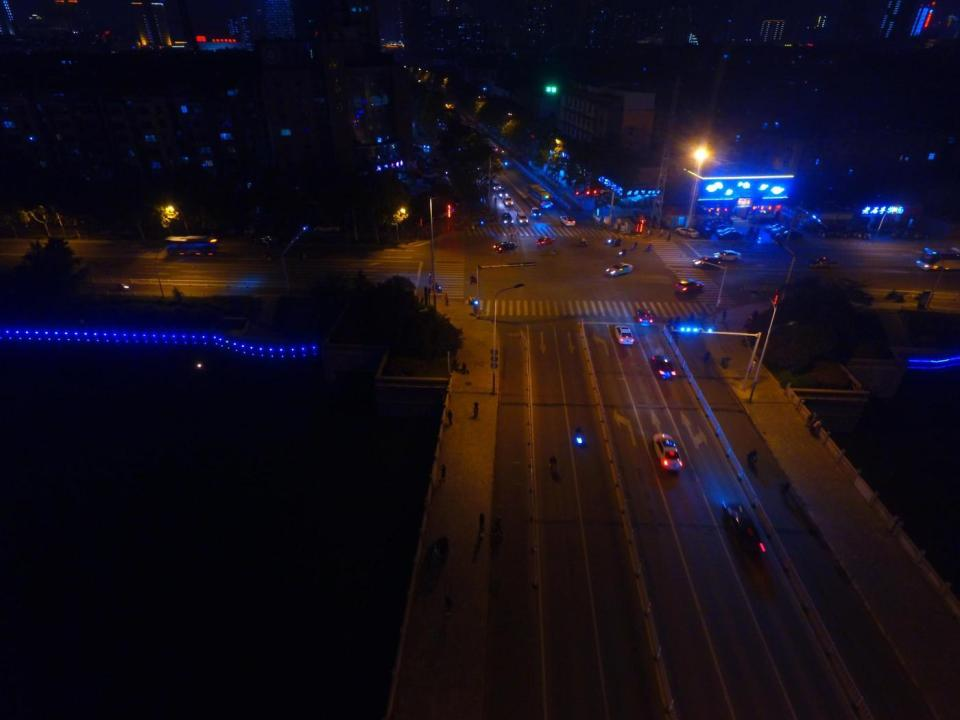bus: (916, 247, 960, 271), (526, 184, 552, 210)
car: (722, 501, 765, 558), (652, 434, 684, 474), (650, 355, 676, 379), (674, 278, 704, 294), (614, 325, 635, 346), (605, 262, 633, 276), (693, 255, 721, 269), (712, 250, 742, 262), (806, 256, 836, 267), (636, 309, 654, 327), (766, 222, 791, 234), (676, 227, 700, 239), (775, 230, 801, 241), (493, 241, 517, 252), (771, 226, 797, 236), (718, 230, 743, 240), (717, 228, 741, 238), (536, 236, 556, 247), (716, 224, 736, 235), (696, 226, 712, 239), (501, 211, 514, 226), (560, 216, 576, 226), (516, 212, 528, 225), (502, 196, 513, 207), (496, 188, 508, 198), (531, 207, 541, 218)
